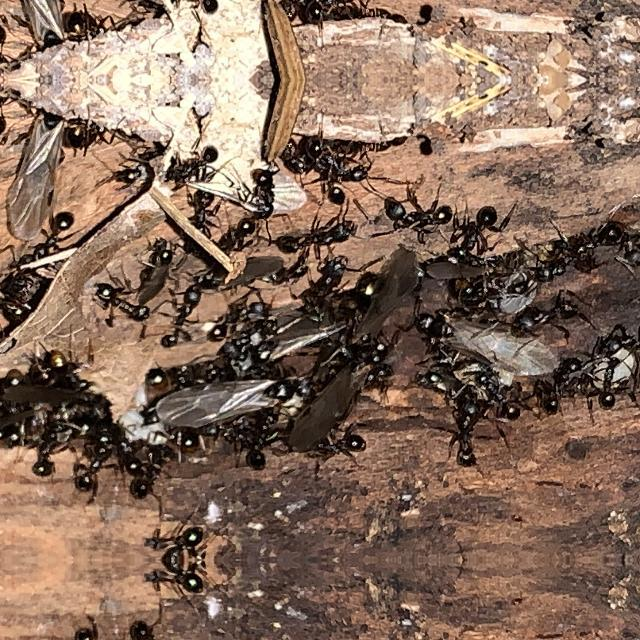Apheanogaster: (336, 241, 428, 377), (0, 92, 84, 240), (410, 298, 554, 376), (150, 367, 328, 428), (0, 0, 84, 66), (292, 250, 361, 326), (439, 392, 496, 473), (268, 216, 362, 260), (505, 291, 587, 339), (156, 282, 212, 352), (546, 217, 630, 263), (533, 350, 589, 418), (376, 194, 460, 238), (118, 364, 172, 432), (469, 364, 528, 426), (84, 276, 156, 326), (302, 143, 378, 189), (25, 206, 85, 264), (448, 202, 510, 258), (164, 139, 230, 189), (109, 134, 169, 188), (126, 444, 178, 506), (132, 235, 184, 297), (202, 296, 274, 340), (27, 418, 75, 482), (504, 257, 570, 303), (67, 429, 113, 493), (46, 340, 100, 394), (142, 520, 212, 560), (142, 560, 212, 600), (242, 162, 286, 220), (304, 428, 374, 464), (584, 359, 626, 415), (456, 274, 524, 308), (69, 110, 117, 158), (69, 2, 117, 50), (242, 424, 288, 474), (138, 421, 206, 454), (182, 186, 224, 236), (593, 322, 639, 363), (112, 428, 148, 479), (446, 245, 512, 271), (109, 0, 169, 26), (126, 614, 178, 640), (163, 0, 228, 20), (300, 0, 377, 16), (67, 626, 113, 640)
